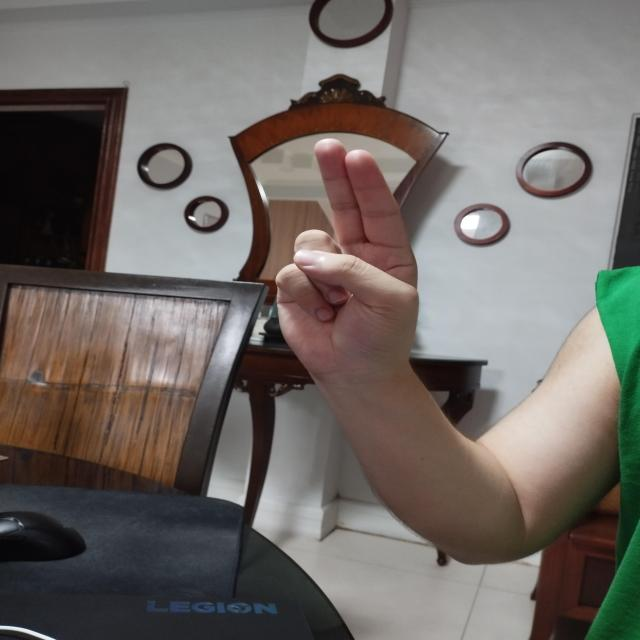U: (274, 136, 423, 380)
